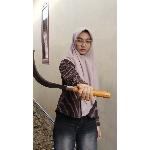Celurit: (34, 44, 115, 102)
